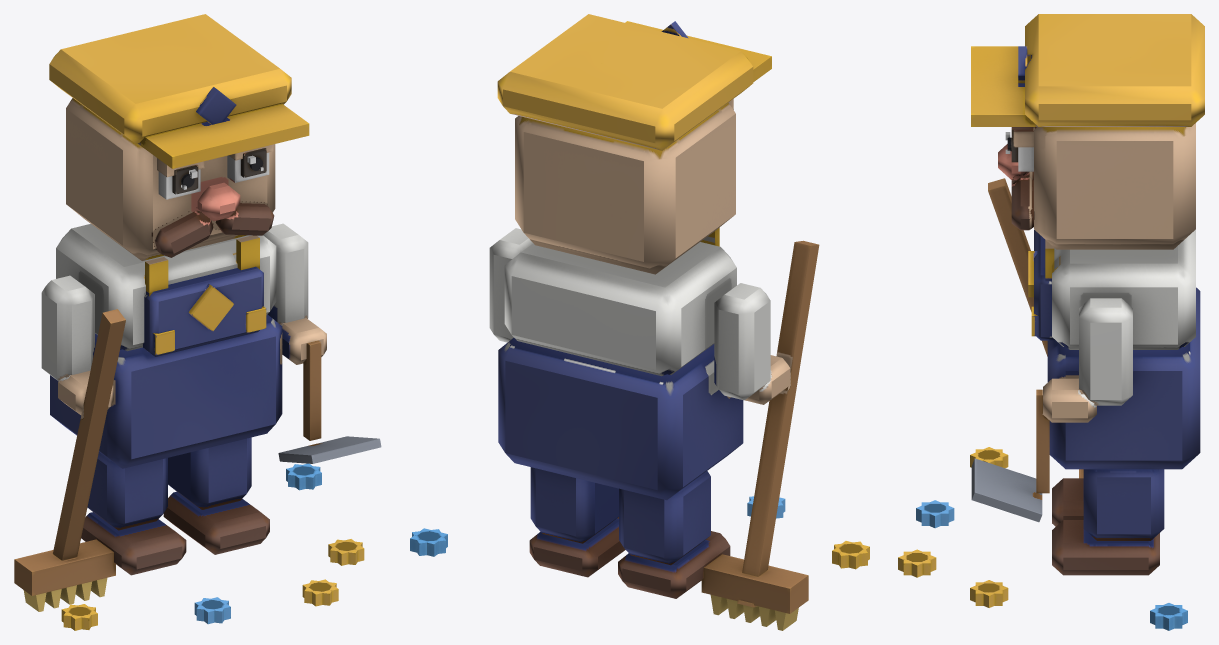
The model's file is ConciergeCosmique_Rig.fbx.
3 renders of one model, left to right at view 1: azimuth 30°, elevation 25°; view 2: azimuth 150°, elevation 25°; view 3: azimuth 270°, elevation 25°, orthographic. The views are drawn at different scales.
Visible parts, largest first — view 1: Head, Body, ArmR, LegL, LegR, ArmL; view 2: Body, Head, ArmR, LegR, LegL, ArmL; view 3: Head, Body, ArmL, LegL, ArmR, LegR.
Part boxes in pixels (box(x1,y1,x2,y2)): Head: box(49, 14, 309, 260); Body: box(50, 224, 364, 630); ArmR: box(14, 275, 125, 611); LegL: box(163, 437, 269, 554); LegR: box(81, 452, 186, 575); ArmL: box(263, 223, 381, 463); Body: box(410, 227, 869, 569); Head: box(497, 14, 771, 274); ArmR: box(701, 240, 819, 630); LegR: box(618, 471, 730, 598); LegL: box(529, 467, 625, 577); ArmL: box(489, 228, 532, 342); Head: box(971, 14, 1204, 249); Body: box(898, 229, 1200, 630); ArmL: box(971, 298, 1132, 522); LegL: box(1052, 469, 1164, 575); ArmR: box(988, 178, 1083, 478); LegR: box(1052, 478, 1083, 526).
Size of the model in its own units: 4.24 by 6 by 3.2.
Materials: 1 (1 with a texture image).
